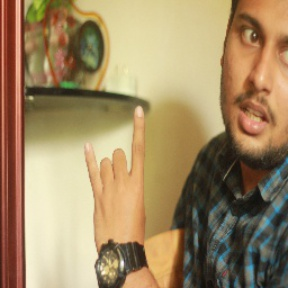V: (84, 104, 156, 262)
